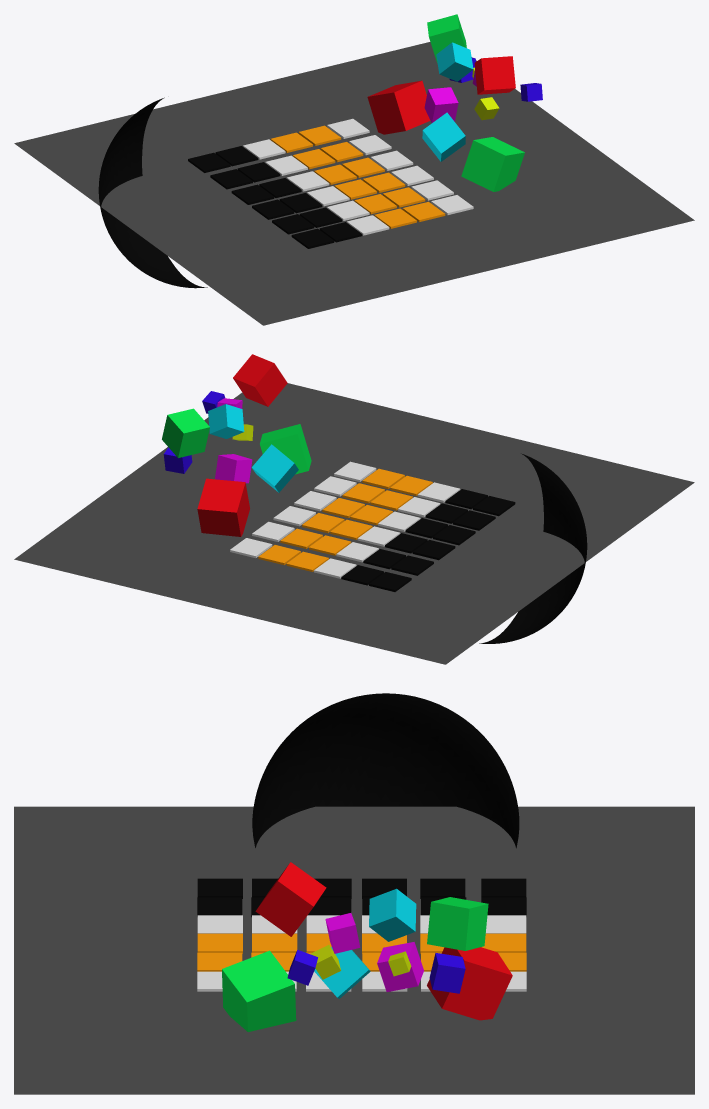
The model's file is GlossyTest.glb.
3 views of the same model, one above another, from view 1: azimuth 30°, elevation 25°; view 2: azimuth 150°, elevation 25°; view 3: azimuth 270°, elevation 25° (orthographic). The views are drawn at different scales.
Parts seen in each view (by area): view 1: Plane, Icosphere, Cube.016, Cube.019, Cube.035, Cube.018, Cube.033, Cube.032, Cube.017, Cube.029, Cube.045, Cube.007 (+33 smaller); view 2: Plane, Icosphere, Cube.016, Cube.035, Cube.032, Cube.019, Cube.018, Cube.033, Cube.017, Cube.046, Cube.028, Cube.045 (+34 smaller); view 3: Plane, Icosphere, Cube.019, Cube.016, Cube.032, Cube.035, Cube.033, Cube.017, Cube.018, Cube.021, Cube.034, Cube.012 (+15 smaller).
Part boxes in pixels (x1=…): Plane: x1=14, y1=42, x2=694, y2=325; Icosphere: x1=98, y1=97, x2=207, y2=288; Cube.016: x1=367, y1=80, x2=430, y2=134; Cube.019: x1=461, y1=137, x2=524, y2=191; Cube.035: x1=474, y1=56, x2=515, y2=94; Cube.018: x1=422, y1=112, x2=465, y2=161; Cube.033: x1=436, y1=42, x2=473, y2=81; Cube.032: x1=427, y1=14, x2=466, y2=63; Cube.017: x1=424, y1=87, x2=458, y2=122; Cube.029: x1=402, y1=201, x2=445, y2=222; Cube.045: x1=252, y1=199, x2=294, y2=219; Cube.007: x1=349, y1=135, x2=391, y2=155; Plane: x1=14, y1=383, x2=694, y2=664; Icosphere: x1=479, y1=453, x2=587, y2=643; Cube.016: x1=197, y1=478, x2=249, y2=536; Cube.035: x1=233, y1=354, x2=287, y2=406; Cube.032: x1=162, y1=408, x2=209, y2=457; Cube.019: x1=260, y1=424, x2=311, y2=474; Cube.018: x1=252, y1=444, x2=298, y2=492; Cube.033: x1=208, y1=404, x2=244, y2=438; Cube.017: x1=215, y1=454, x2=252, y2=483; Cube.046: x1=391, y1=555, x2=433, y2=575; Cube.028: x1=342, y1=483, x2=384, y2=503; Cube.045: x1=433, y1=525, x2=475, y2=545; Plane: x1=14, y1=806, x2=694, y2=1094; Icosphere: x1=252, y1=693, x2=519, y2=848; Cube.019: x1=222, y1=950, x2=296, y2=1031; Cube.016: x1=427, y1=947, x2=512, y2=1020; Cube.032: x1=427, y1=897, x2=488, y2=950; Cube.035: x1=255, y1=862, x2=326, y2=936; Cube.033: x1=369, y1=888, x2=416, y2=941; Cube.017: x1=377, y1=942, x2=423, y2=991; Cube.018: x1=314, y1=947, x2=370, y2=998; Cube.021: x1=429, y1=953, x2=465, y2=993; Cube.034: x1=325, y1=913, x2=360, y2=953; Cube.012: x1=197, y1=933, x2=242, y2=953.
Size of the model in its own units: 45.89 by 18.13 by 44.32.
